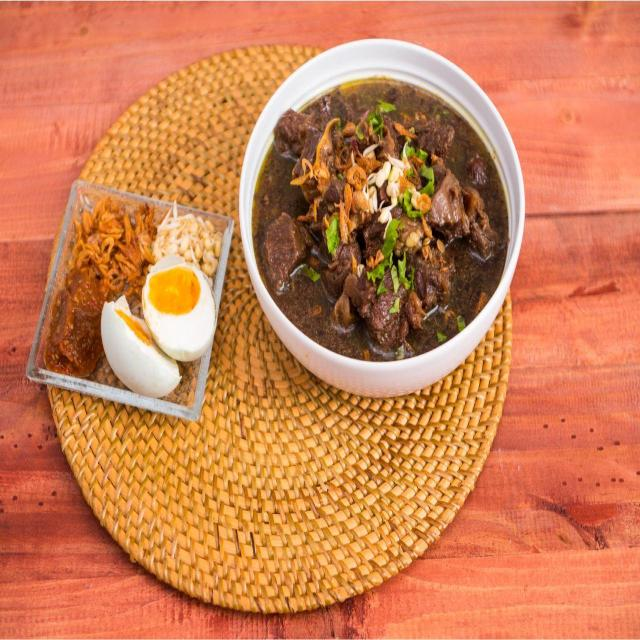Rawon: (263, 72, 498, 360)
